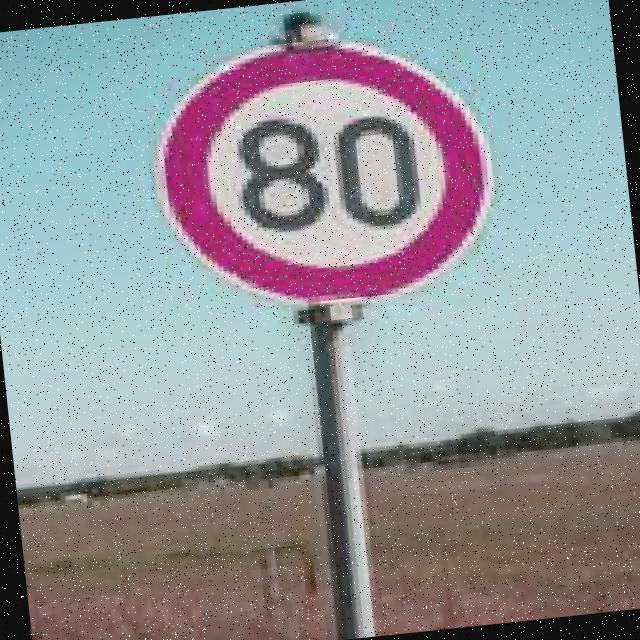Ograniczenie predkosci do 80: (165, 44, 482, 306)
